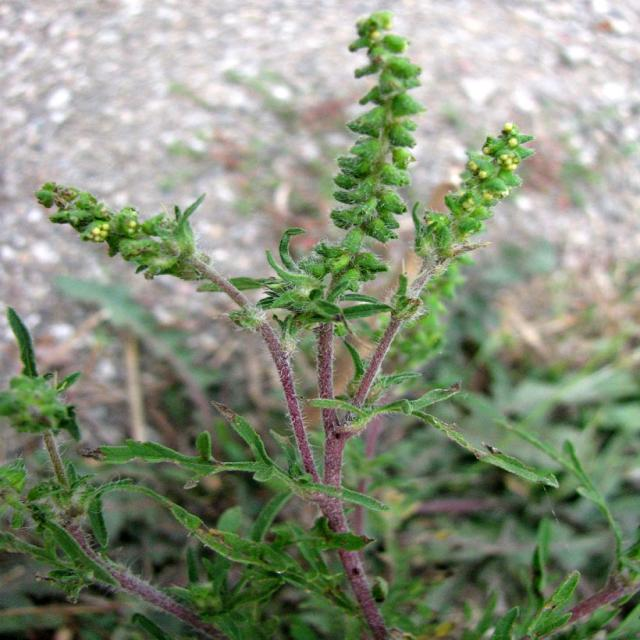ambrosia: (270, 1, 554, 377), (22, 164, 234, 336)
